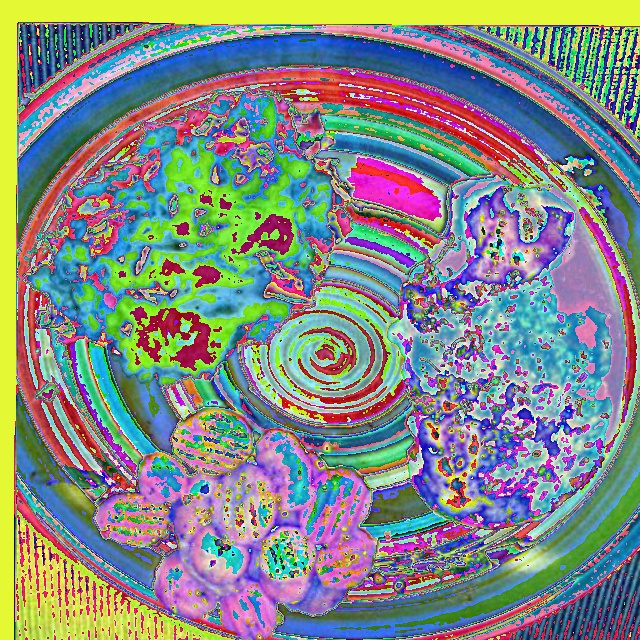background: (228, 181, 614, 531), (94, 233, 376, 639), (23, 88, 356, 389)
